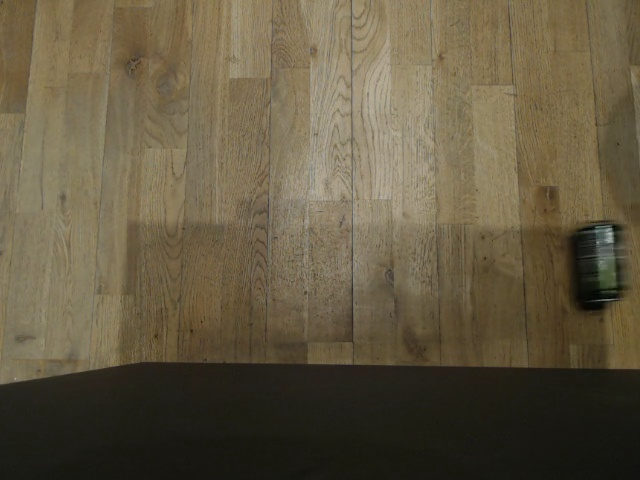beer: (447, 325, 545, 370), (140, 319, 233, 365)
